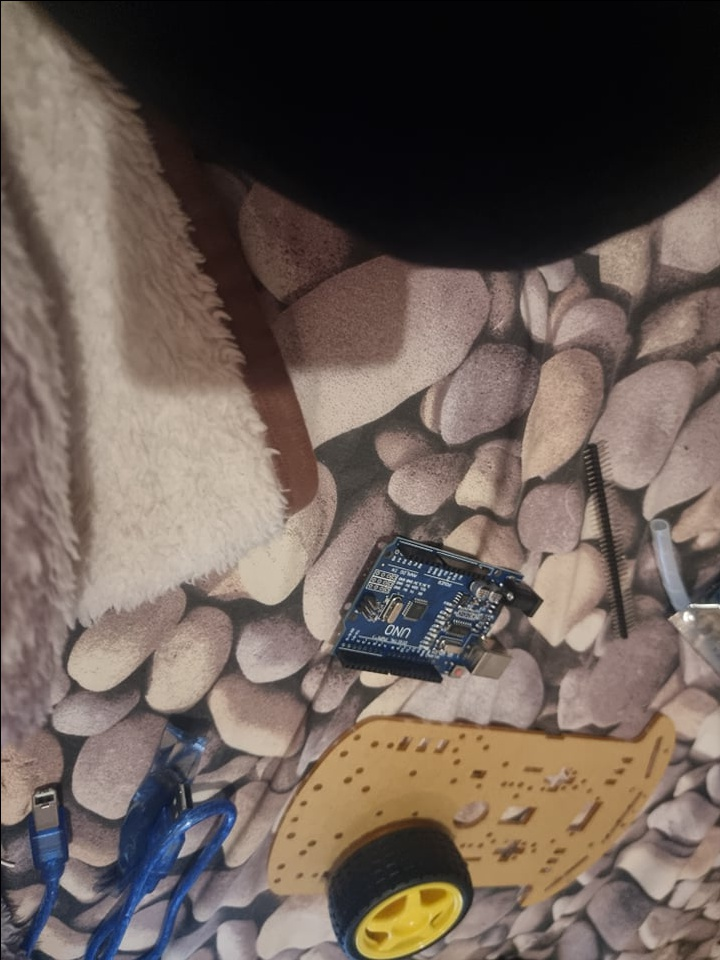UNO R3: (332, 533, 541, 683)
